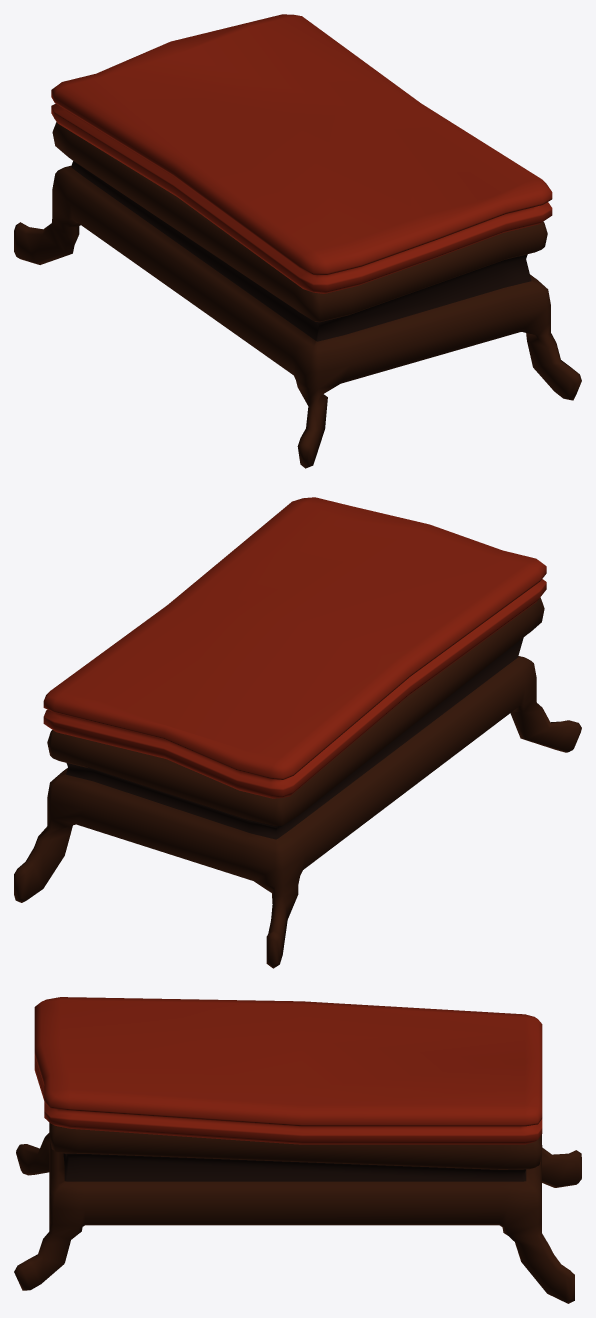
Rendered from Seat.fbx.
3 views of the same model, one above another, from view 1: azimuth 30°, elevation 25°; view 2: azimuth 150°, elevation 25°; view 3: azimuth 270°, elevation 25° (orthographic). The views are drawn at different scales.
Visible parts, largest first — view 1: Box002, Box001; view 2: Box002, Box001; view 3: Box002, Box001.
Part boxes in pixels (x1=…): Box002: x1=51, y1=14, x2=552, y2=293; Box001: x1=14, y1=122, x2=581, y2=468; Box002: x1=43, y1=497, x2=546, y2=798; Box001: x1=14, y1=597, x2=581, y2=968; Box002: x1=34, y1=997, x2=542, y2=1144; Box001: x1=14, y1=1123, x2=581, y2=1303.
Size of the model in its own units: 47.87 by 35.13 by 88.44.
